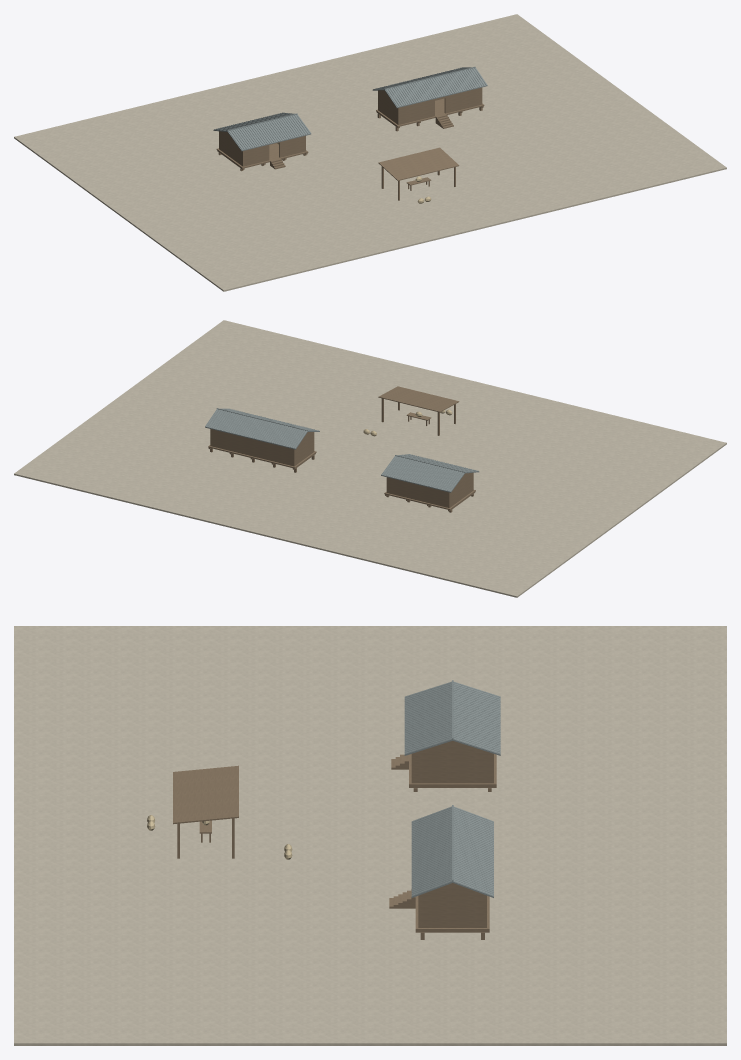
File: storage-group-organized-local.glb
3 renders of one model, top to bottom at view 1: azimuth 30°, elevation 25°; view 2: azimuth 150°, elevation 25°; view 3: azimuth 270°, elevation 25°, orthographic. The views are drawn at different scales.
Parts seen in each view (by area): view 1: sample_ground, B_roofbed_-1, receiving_cover, A_roofbed_-1, B_frontwall_1, B_frontwall_-1, A_frontwall_-1; view 2: sample_ground, B_roofbed_1, B_backwall, A_roofbed_1, A_backwall, receiving_cover; view 3: sample_ground, receiving_cover, A_sidewall_1, B_roofbed_1, B_roofbed_-1, B_sidewall_1, A_roofbed_-1, A_roofbed_1.
Part boxes in pixels (x1,y1,x2,y2): sample_ground: (14,14,726,291); B_roofbed_-1: (384,67,487,107); receiving_cover: (378,147,459,180); A_roofbed_-1: (227,114,311,151); B_frontwall_1: (444,87,482,113); B_frontwall_-1: (397,99,434,124); A_frontwall_-1: (242,145,269,166); sample_ground: (14,320,726,597); B_roofbed_1: (205,409,307,449); B_backwall: (210,429,294,466); A_roofbed_1: (381,456,464,492); A_backwall: (386,477,450,507); receiving_cover: (378,386,459,412); sample_ground: (14,626,726,1045); receiving_cover: (173,765,238,824); A_sidewall_1: (414,754,490,783); B_roofbed_1: (452,808,493,897); B_roofbed_-1: (411,807,452,897); B_sidewall_1: (421,896,484,927); A_roofbed_-1: (404,683,452,755); A_roofbed_1: (452,683,500,755).
Size of the model in its own units: 72 by 5.15 by 52.
Materials: 4 (3 with a texture image).
